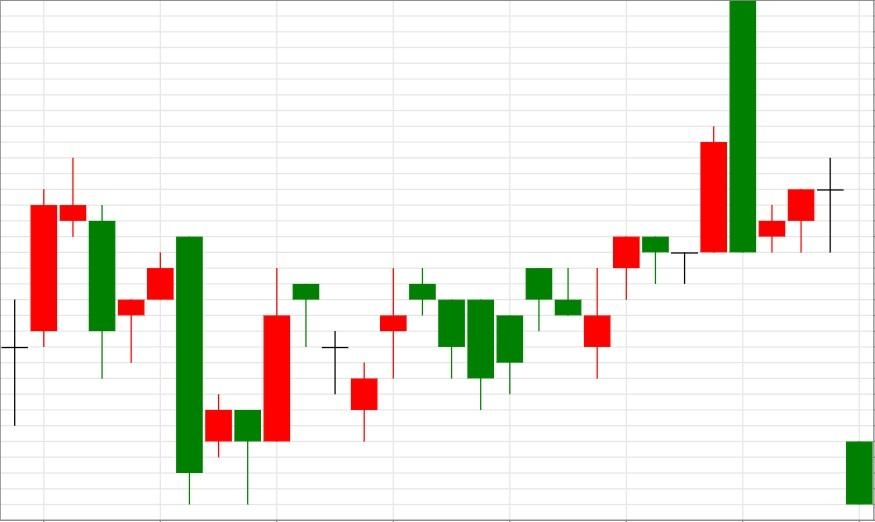bearish_engulfing_fall: (583, 0, 757, 379), (88, 204, 204, 504)
hammer_rise: (176, 235, 262, 505)
